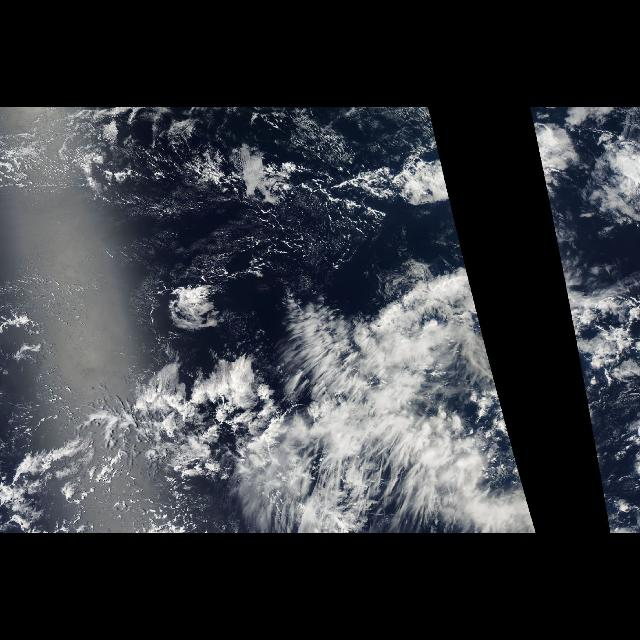Gravel: (8, 114, 394, 274)
